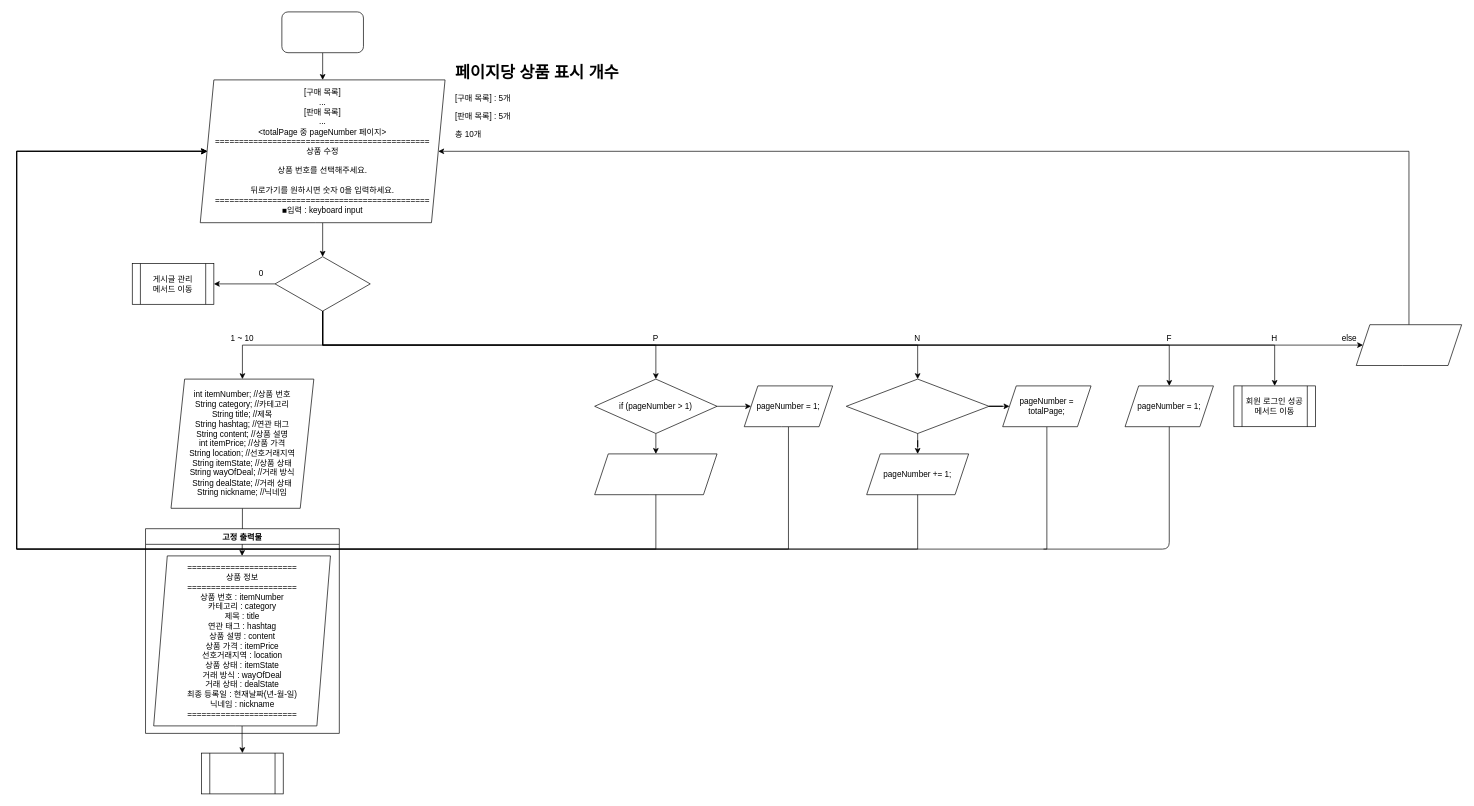
Some shapes in this 1474 by 806 pixel diagram are drawn without their labels. The shapes that lost their labels are listed below. From the top down, each one's centre as x and y in pixels, then its label:
pixel 322 32: 상품 수정 메서드 진입
pixel 322 283: input
pixel 1409 345: 잘못입력하셨습니다. 다시 입력해주세요.
pixel 917 406: if (pageNumber < totalPage)
pixel 655 474: pageNumber -= 1;
pixel 242 773: 수정 항목 선택 메서드 진입
